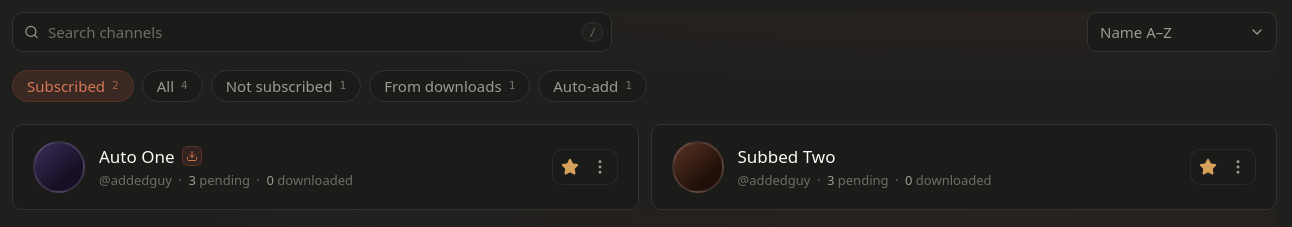
Test: Channels › chip counts › From downloads and Auto-add show exactly their rows
Expected: the heading "Auto One" is shown, [99,144,175,169]
Click the button "From downloads 1": (450, 86) [369,70,530,102]
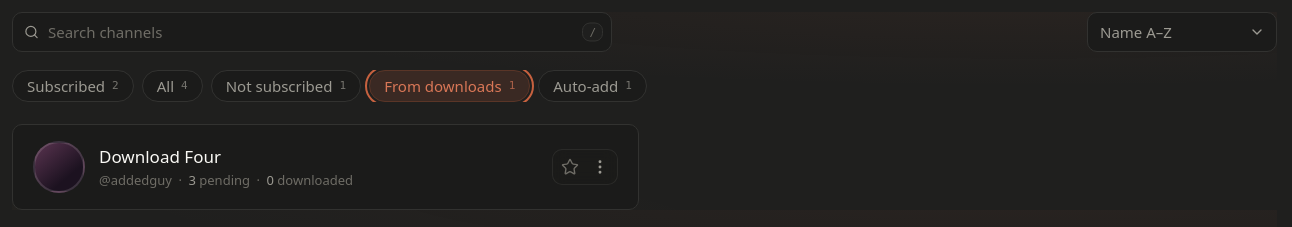
Now the heading "Download Four" is shown, box [99,144,221,169]
Now the heading "Auto One" is gone
Click the button "Auto-add 1": (593, 86) [538,70,647,102]
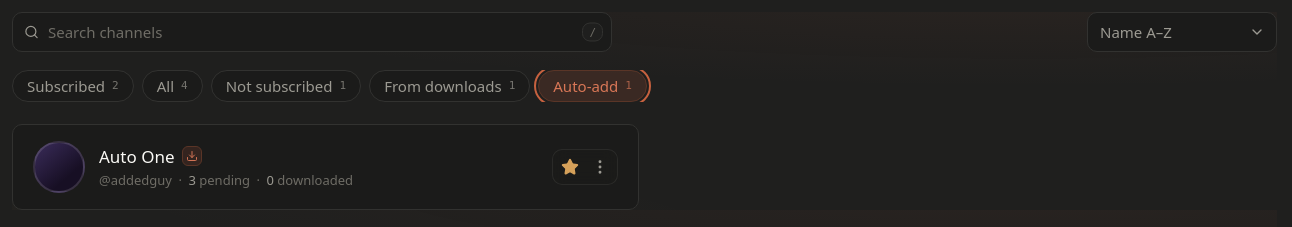
Now the heading "Auto One" is shown, box [99,144,175,169]
Now the heading "Download Four" is gone
